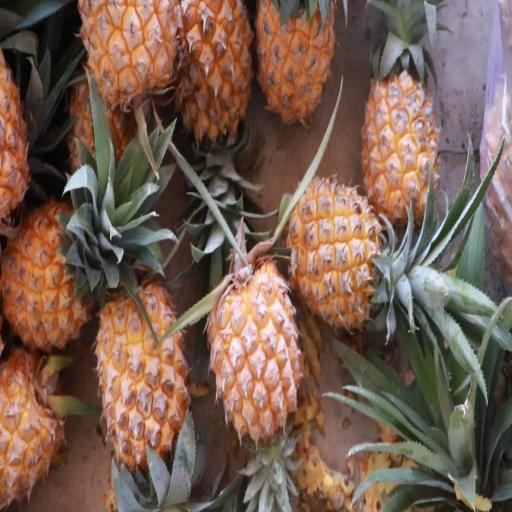Pineapple - v8 v1: (355, 0, 442, 234), (90, 274, 190, 477), (207, 252, 307, 444), (284, 174, 398, 340), (5, 184, 94, 352), (167, 0, 254, 158), (74, 0, 182, 127), (253, 0, 340, 137), (0, 344, 63, 506)
